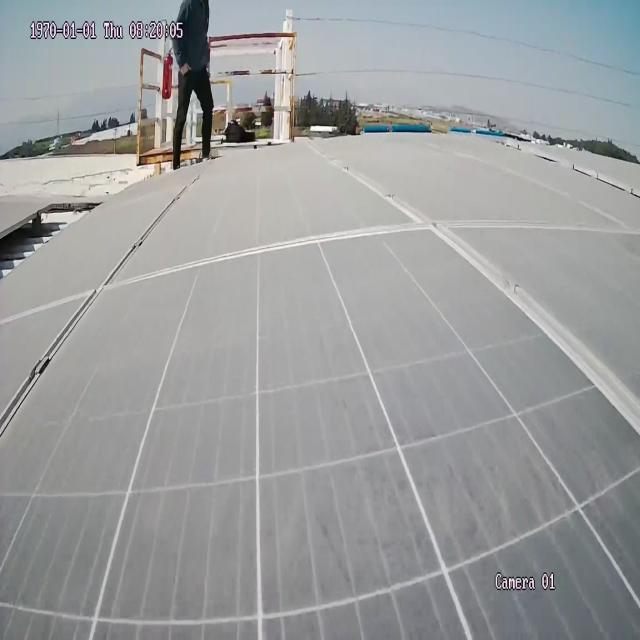interior panel: (108, 143, 640, 474), (0, 171, 208, 458)
outher panel: (0, 192, 107, 299)
